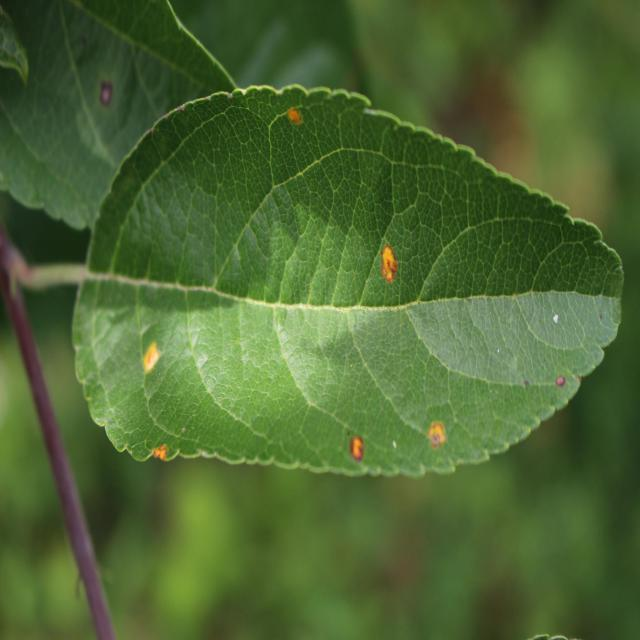Rust: (373, 229, 408, 292), (421, 408, 457, 461), (135, 331, 171, 380), (337, 421, 369, 471), (141, 430, 173, 478), (280, 93, 308, 142)
